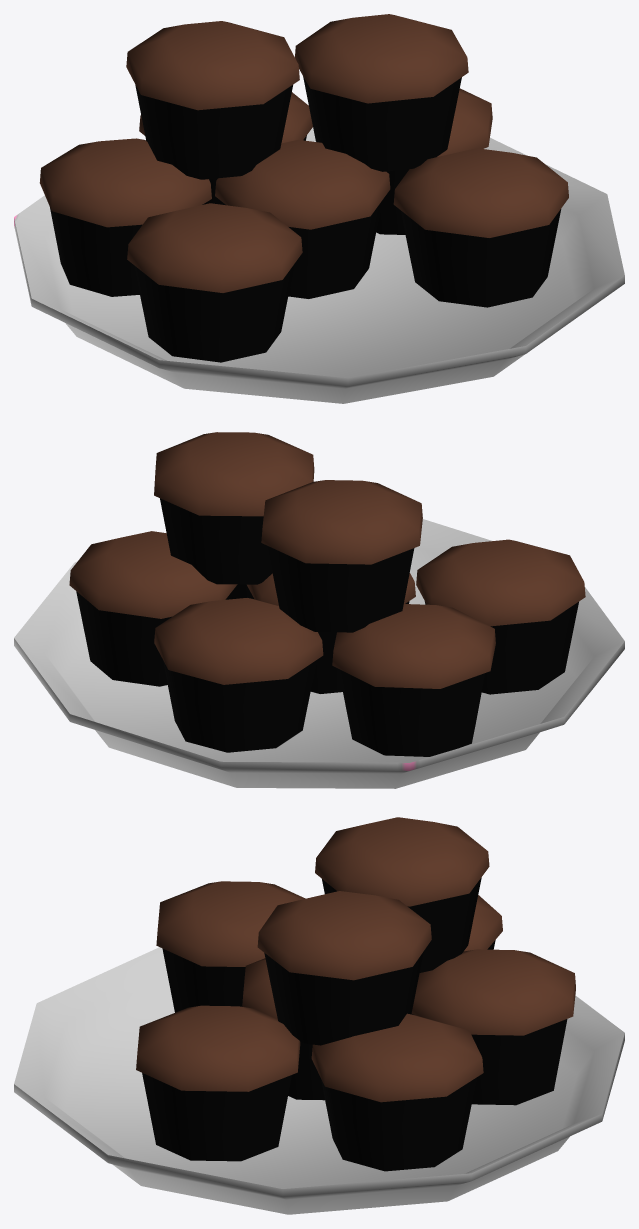
The model's file is furniture_decor_210003.glb.
The picture shows the model from 3 angles, top to bottom: view 1: azimuth 30°, elevation 25°; view 2: azimuth 150°, elevation 25°; view 3: azimuth 270°, elevation 25°; orthographic projection. The views are drawn at different scales.
Parts seen in each view (by area): view 1: furniture_decor_210003; view 2: furniture_decor_210003; view 3: furniture_decor_210003.
Part boxes in pixels (left/top/right/bottom): furniture_decor_210003: left=14, top=14, right=624, bottom=403; furniture_decor_210003: left=14, top=432, right=624, bottom=788; furniture_decor_210003: left=14, top=817, right=624, bottom=1214.
Size of the model in its own units: 0.2812 by 0.118 by 0.2777.
Materials: 1 (1 with a texture image).
